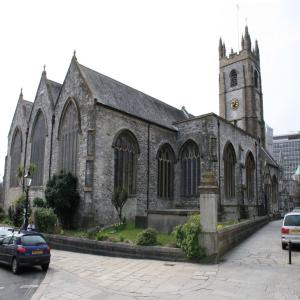Vehicle-registration-plate: (32, 252, 44, 257), (292, 230, 300, 234)
